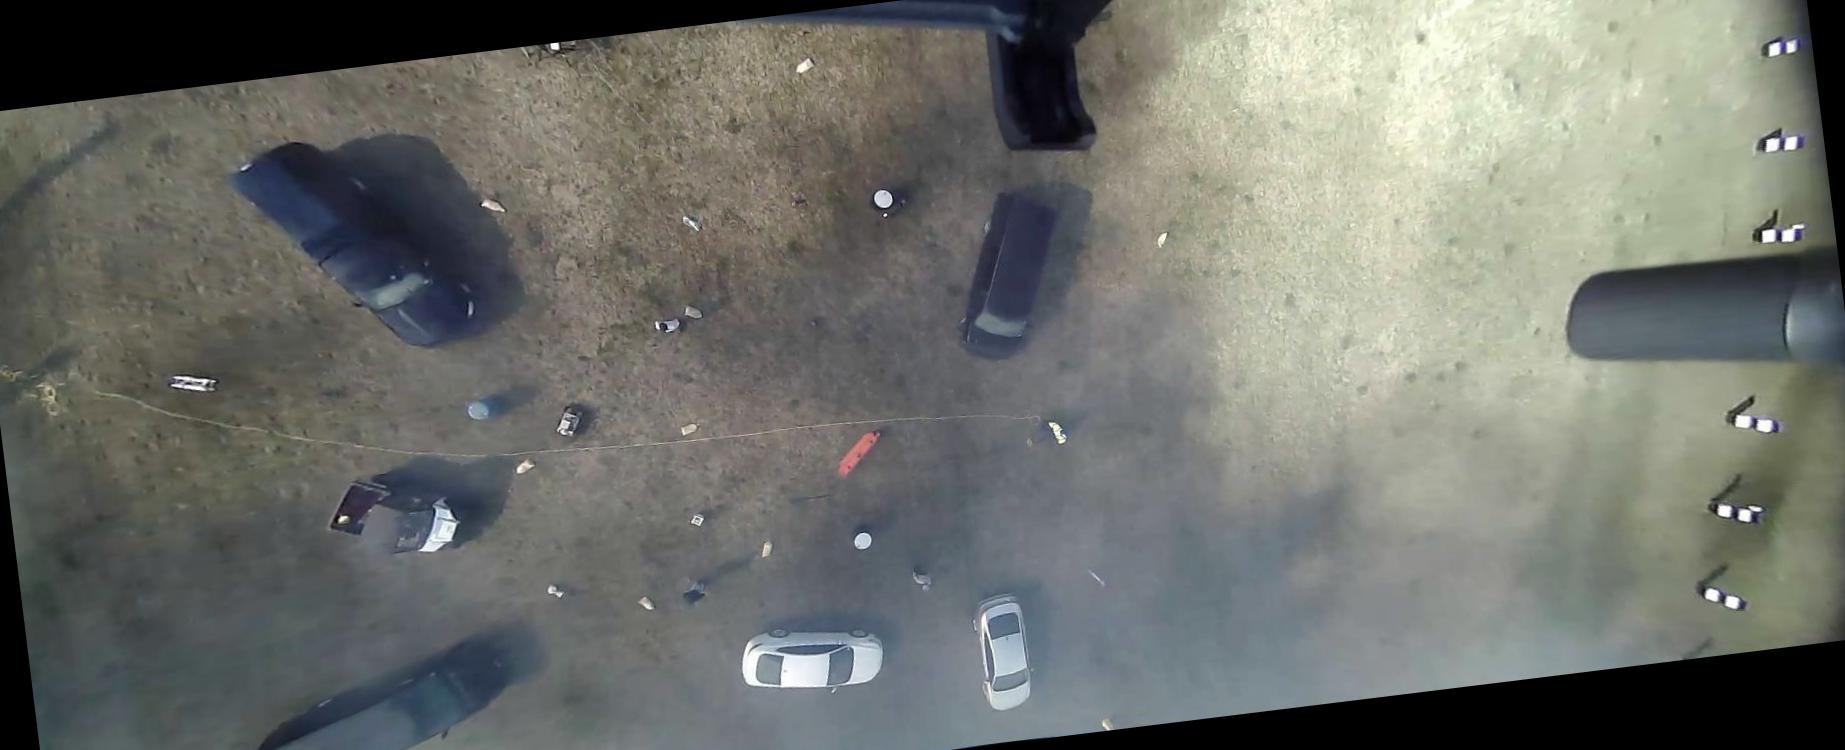vehicle: (226, 121, 480, 370), (235, 635, 519, 749), (939, 186, 1074, 365), (319, 464, 474, 565), (734, 613, 890, 705), (967, 589, 1038, 714)
